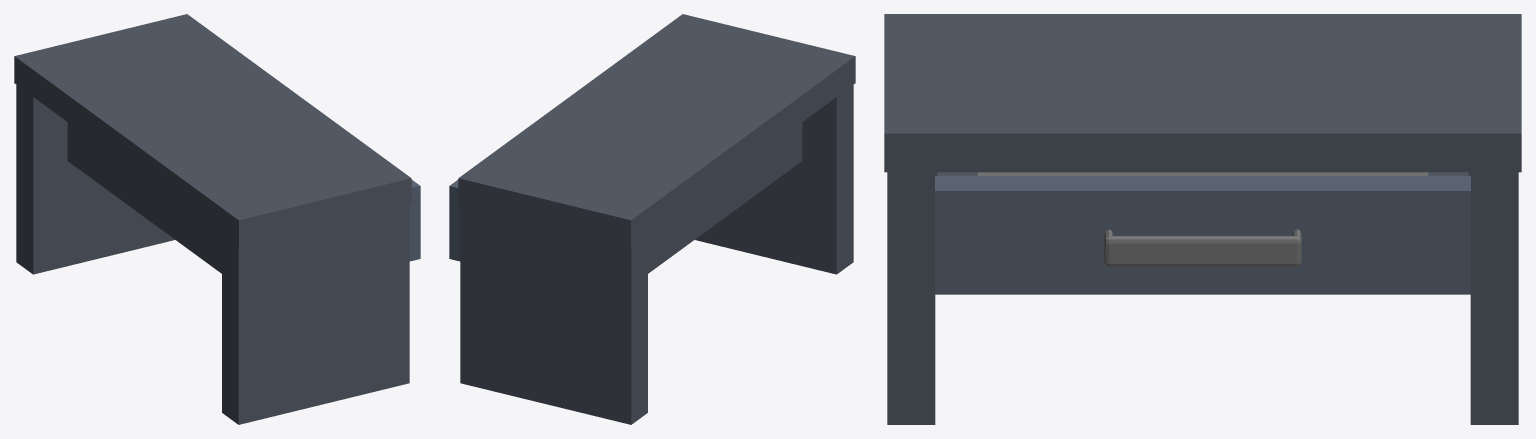
The model's file is LAB_DRAWERS_ANIMUPDATE.glb.
3 renders of one model, left to right at view 1: azimuth 30°, elevation 25°; view 2: azimuth 150°, elevation 25°; view 3: azimuth 270°, elevation 25°, orthographic. The views are drawn at different scales.
Visible parts, largest first — view 1: Cube.002, Cube.005; view 2: Cube.002, Cube.005; view 3: Cube.002, Cube.005.
Part boxes in pixels (left/top/right/bottom): Cube.002: left=14, top=14, right=411, bottom=424; Cube.005: left=67, top=122, right=420, bottom=273; Cube.002: left=458, top=14, right=855, bottom=424; Cube.005: left=449, top=122, right=802, bottom=273; Cube.002: left=884, top=14, right=1521, bottom=424; Cube.005: left=935, top=172, right=1470, bottom=294.
Size of the model in its own units: 1.23 by 1.14 by 2.25.
